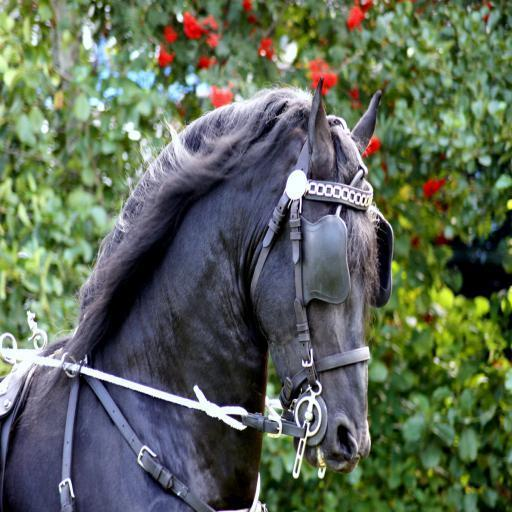horse: (0, 76, 383, 511)
